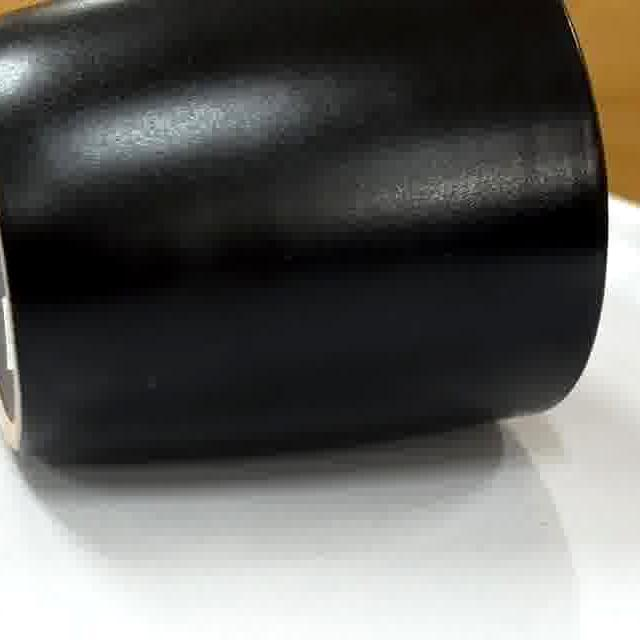cup: (0, 0, 607, 469)
